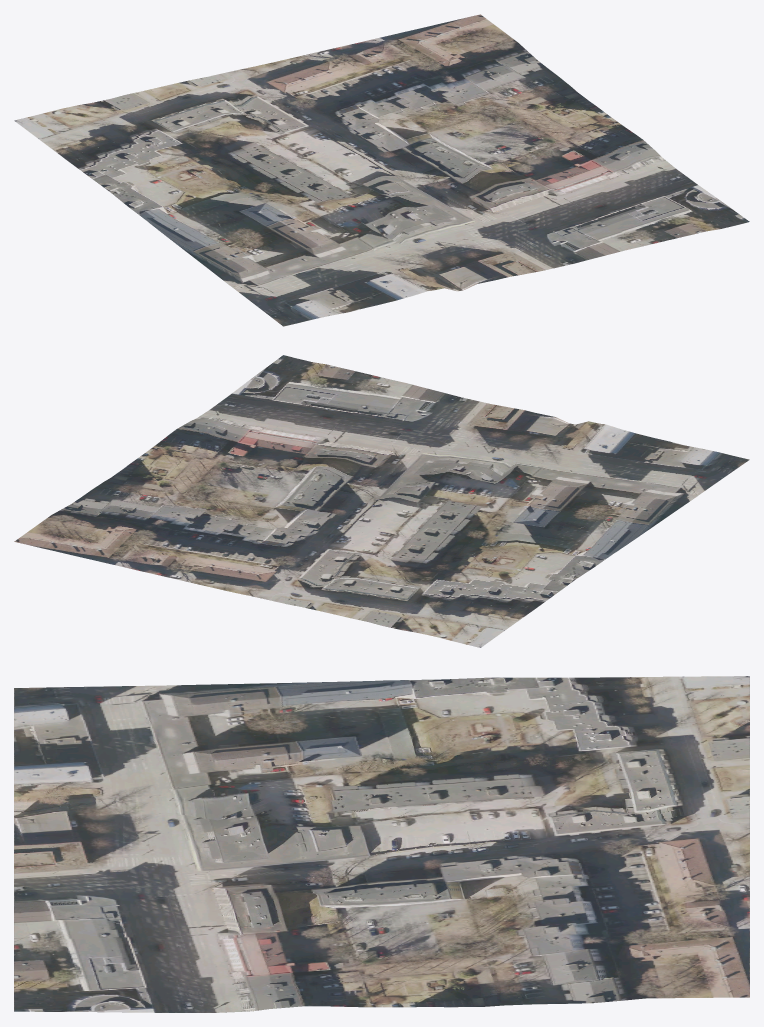
Rendered from CM_Terrain_24486773_6821227.fbx.
3 renders of one model, top to bottom at view 1: azimuth 30°, elevation 25°; view 2: azimuth 150°, elevation 25°; view 3: azimuth 270°, elevation 25°, orthographic. The views are drawn at different scales.
Visible parts, largest first — view 1: CM_Terrain_24486773_6821227_LOD0; view 2: CM_Terrain_24486773_6821227_LOD0; view 3: CM_Terrain_24486773_6821227_LOD0.
Boxes of the visible parts, x1,y1,x2,y2 form: CM_Terrain_24486773_6821227_LOD0: [14, 14, 749, 326]; CM_Terrain_24486773_6821227_LOD0: [14, 355, 749, 647]; CM_Terrain_24486773_6821227_LOD0: [14, 676, 749, 1012].
Size of what is drawn, in the model's own units: 205 by 8.05 by 205.
